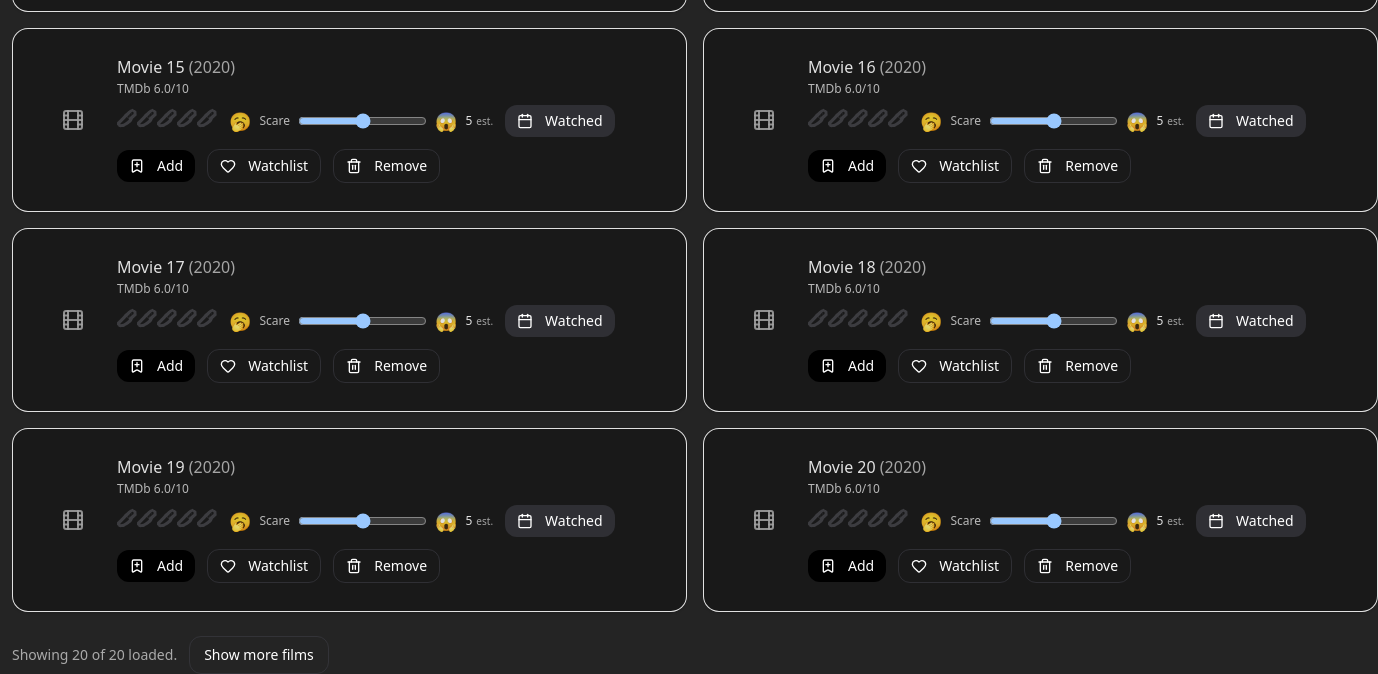
Discover: Show more films › goes on to the last page and then says that's everything
This screenshot has width=1378, height=674.
(page scrolled)
Step 1. Click the button "Show more films" → x=259, y=655, box [189,636,329,673]
(page scrolled)
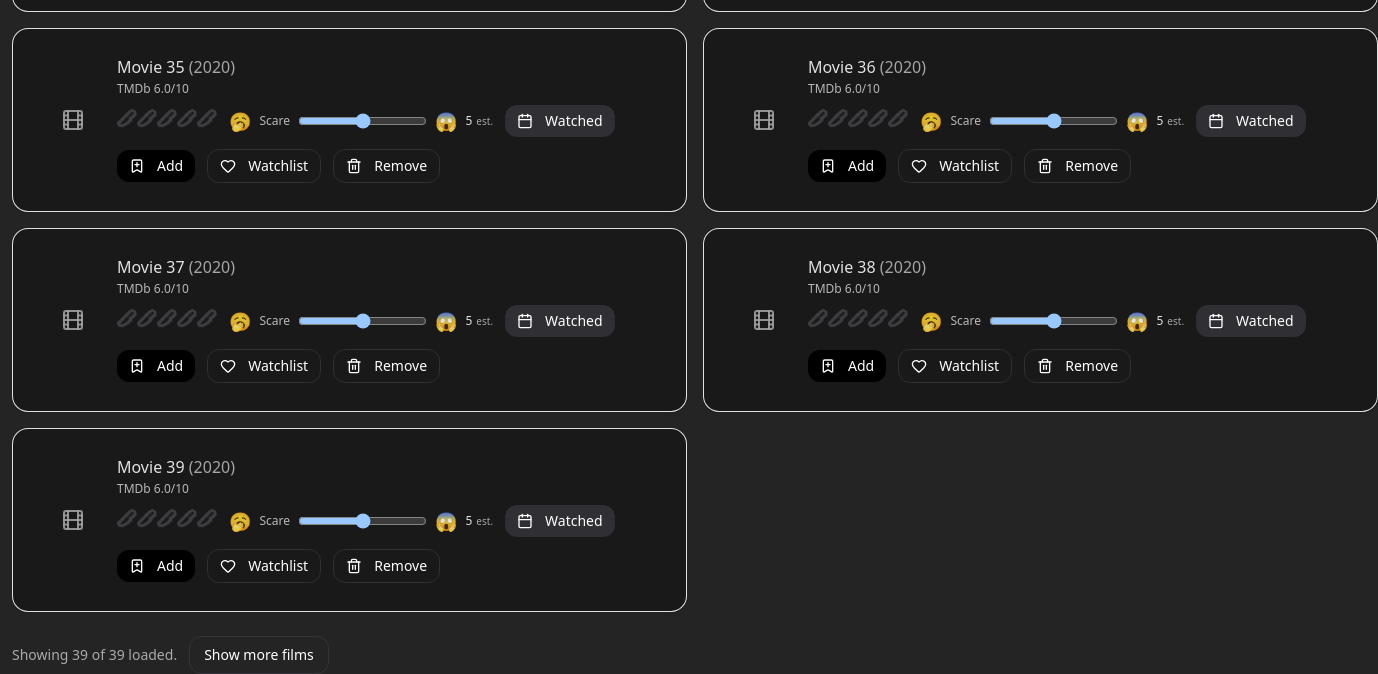
Step 2. Click the button "Show more films" → x=259, y=655, box [189,636,329,673]
(page scrolled)
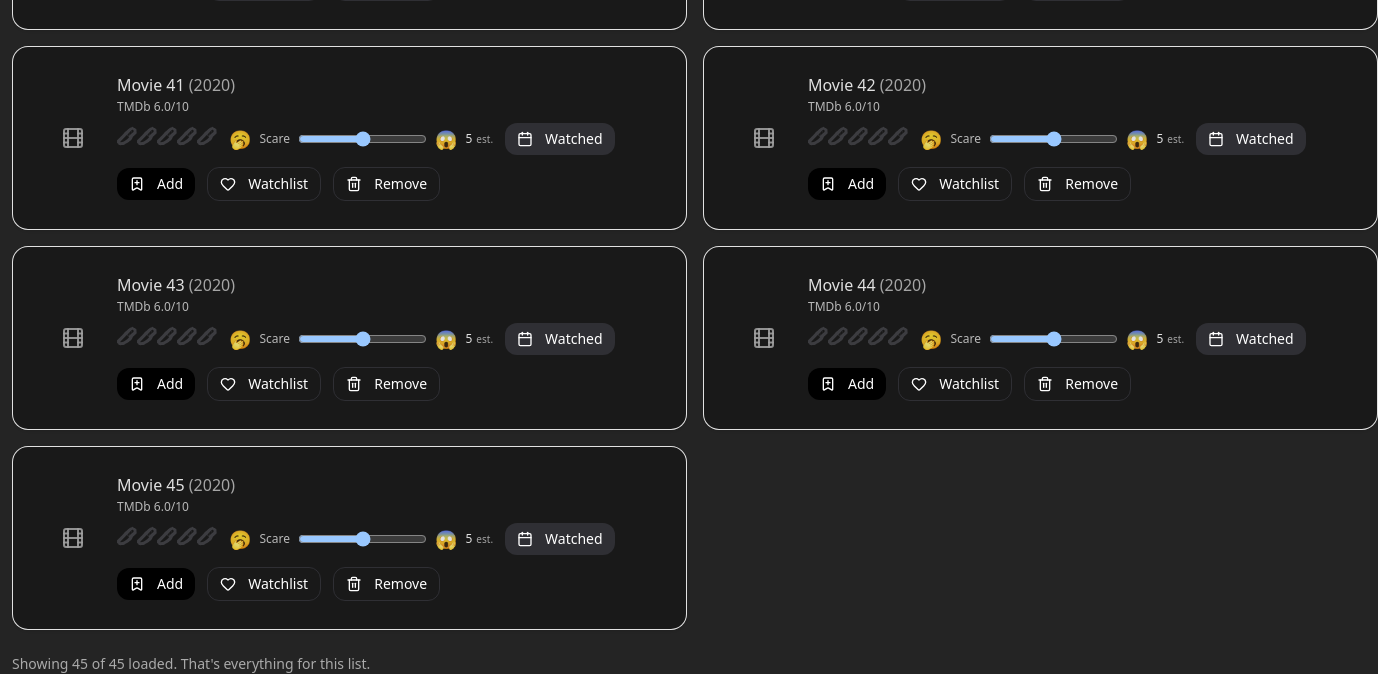
Now the button "Show more films" is gone
Now the text "Showing 45 of 45 loaded. That's everything for this list." is shown, box [12,654,370,673]
